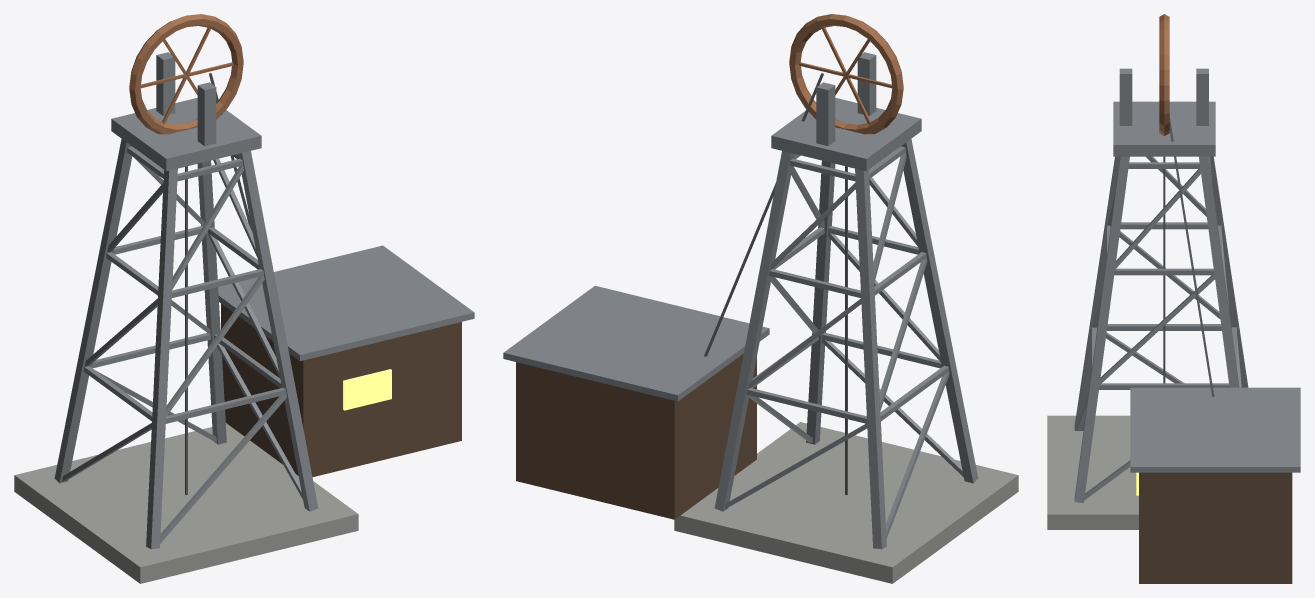
The model's file is headframe.glb.
3 views of the same model, side by side, from view 1: azimuth 30°, elevation 25°; view 2: azimuth 150°, elevation 25°; view 3: azimuth 270°, elevation 25° (orthographic). The views are drawn at different scales.
Visible parts, largest first — view 1: headframe; view 2: headframe; view 3: headframe.
Part boxes in pixels (x1,y1,x2,y2): headframe: (14, 14, 474, 583); headframe: (503, 14, 1018, 583); headframe: (1047, 14, 1300, 583).
Size of the model in its own units: 9.55 by 11.94 by 5.95.
